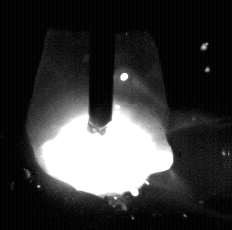arame: (89, 0, 115, 134)
poca: (26, 0, 168, 230)
